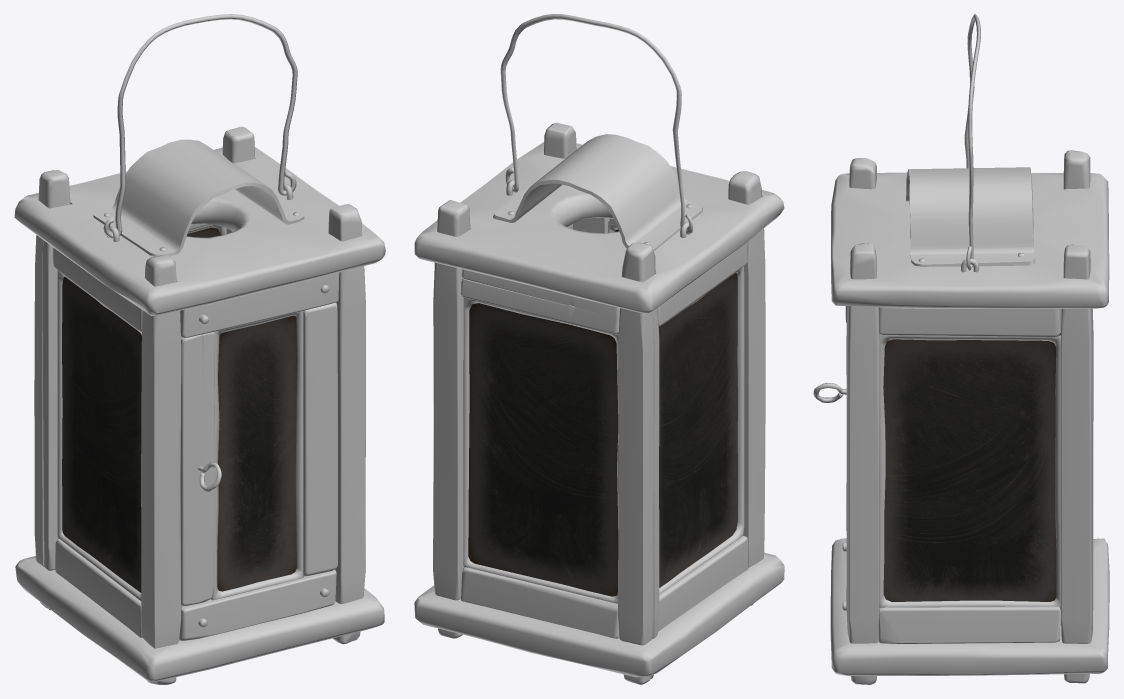
The model's file is wooden_lantern_01.obj.
The picture shows the model from 3 angles, left to right: view 1: azimuth 30°, elevation 25°; view 2: azimuth 150°, elevation 25°; view 3: azimuth 270°, elevation 25°; orthographic projection.
Visible parts, largest first — view 1: wooden_lantern_01_0, wooden_lantern_01_door_0, wooden_lantern_01_1, wooden_lantern_01_door_1, wooden_lantern_01_handle_0; view 2: wooden_lantern_01_0, wooden_lantern_01_1, wooden_lantern_01_handle_0, wooden_lantern_01_door_0; view 3: wooden_lantern_01_0, wooden_lantern_01_1, wooden_lantern_01_handle_0, wooden_lantern_01_door_0.
Part boxes in pixels (x1,y1,x2,y2): wooden_lantern_01_0: (14,126,385,684); wooden_lantern_01_door_0: (179,272,339,641); wooden_lantern_01_1: (62,227,220,592); wooden_lantern_01_door_1: (217,315,297,591); wooden_lantern_01_handle_0: (103,14,297,238); wooden_lantern_01_0: (414,122,784,684); wooden_lantern_01_1: (468,273,737,596); wooden_lantern_01_handle_0: (500,14,692,234); wooden_lantern_01_door_0: (573,217,618,233); wooden_lantern_01_0: (830,150,1109,684); wooden_lantern_01_1: (883,333,1060,609); wooden_lantern_01_handle_0: (964,14,980,270); wooden_lantern_01_door_0: (813,306,847,610).
Size of the model in its own units: 0.221 by 0.5301 by 0.2347.
